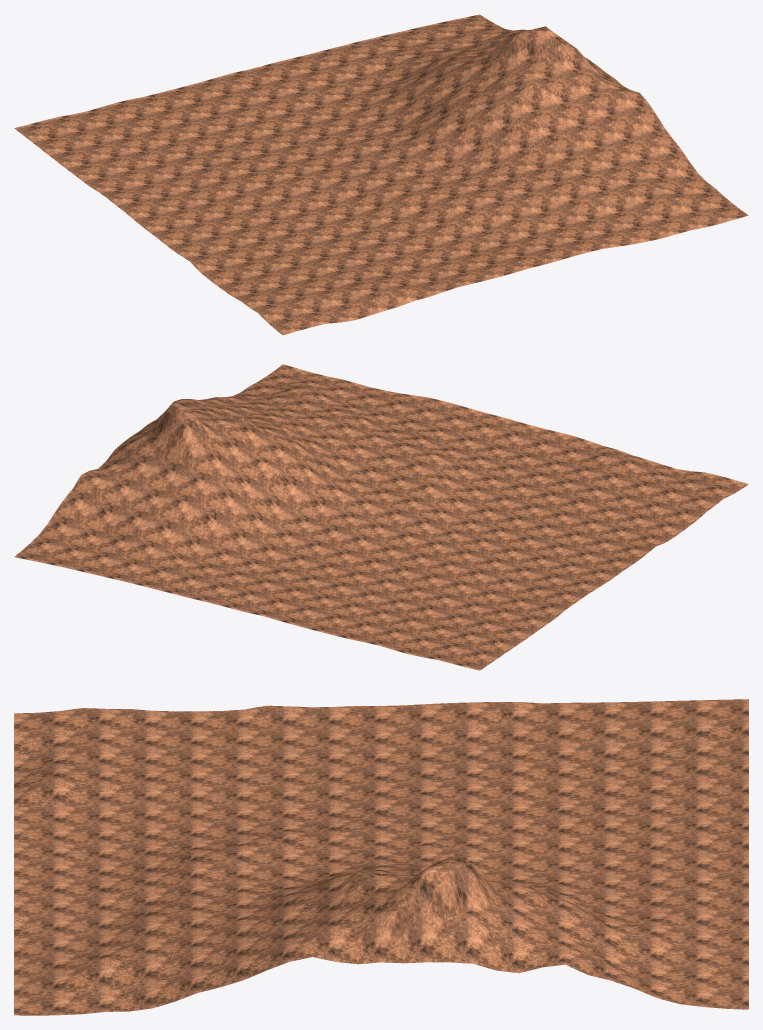
File: terrain_06_15.dae
3 views of the same model, one above another, from view 1: azimuth 30°, elevation 25°; view 2: azimuth 150°, elevation 25°; view 3: azimuth 270°, elevation 25° (orthographic). The views are drawn at different scales.
Visible parts, largest first — view 1: terrain_06_15-node; view 2: terrain_06_15-node; view 3: terrain_06_15-node.
Part boxes in pixels (box(x1,y1,x2,y2)): terrain_06_15-node: box(14, 14, 748, 335); terrain_06_15-node: box(14, 364, 748, 670); terrain_06_15-node: box(14, 699, 748, 1015).
Size of the model in its own units: 128 by 128 by 24.07.
1 material, 1 textured.
